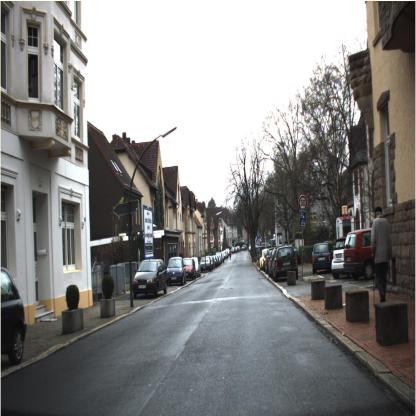prohibitory: (298, 191, 307, 212)
